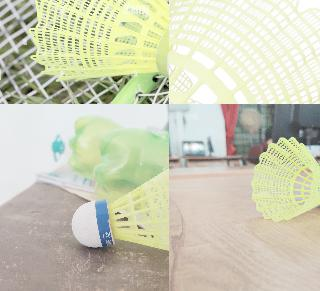shuttlecock: (169, 0, 319, 103), (28, 0, 168, 86), (71, 149, 168, 261), (250, 136, 319, 221)
